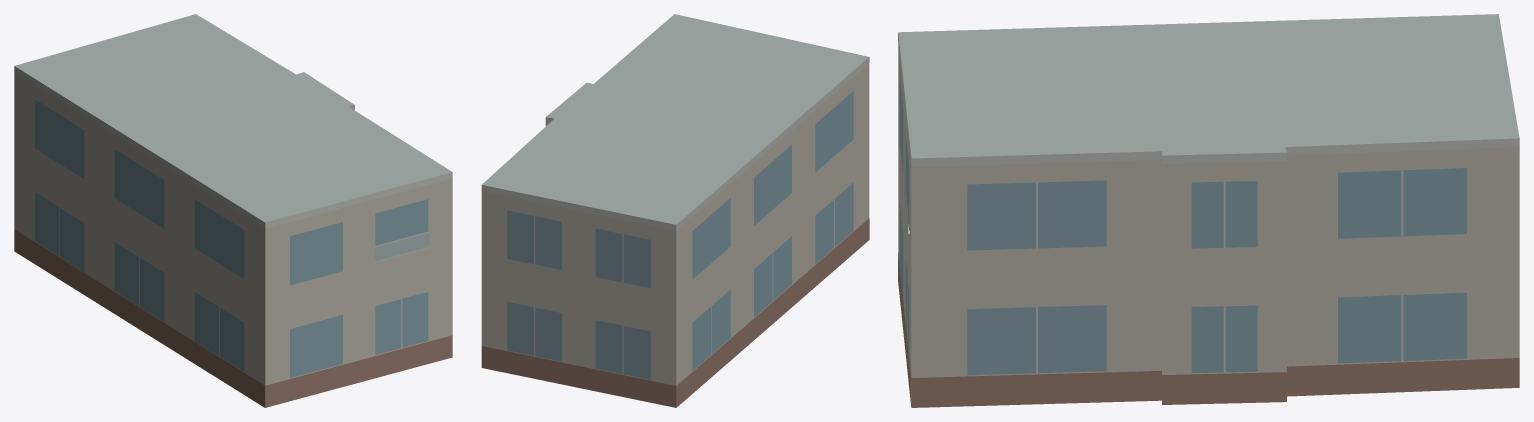
The model's file is survey-upis-32739600.glb.
3 renders of one model, left to right at view 1: azimuth 30°, elevation 25°; view 2: azimuth 150°, elevation 25°; view 3: azimuth 270°, elevation 25°, orthographic. The views are drawn at different scales.
Visible parts, largest first — view 1: survey-upis-32739600.tmp; view 2: survey-upis-32739600.tmp; view 3: survey-upis-32739600.tmp.
Part boxes in pixels (x1,y1,x2,y2): survey-upis-32739600.tmp: (14, 14, 452, 407); survey-upis-32739600.tmp: (481, 14, 869, 407); survey-upis-32739600.tmp: (898, 14, 1519, 407).
Bounding box in the file's own units: 8.96 × 7.2 × 16.27.
